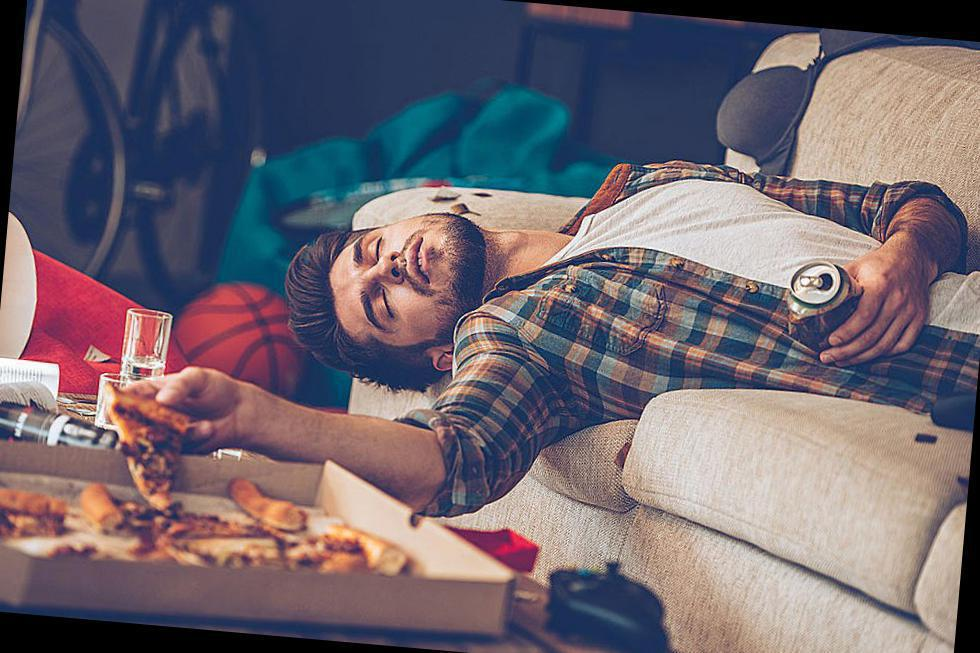Drunk: (325, 215, 478, 343)
